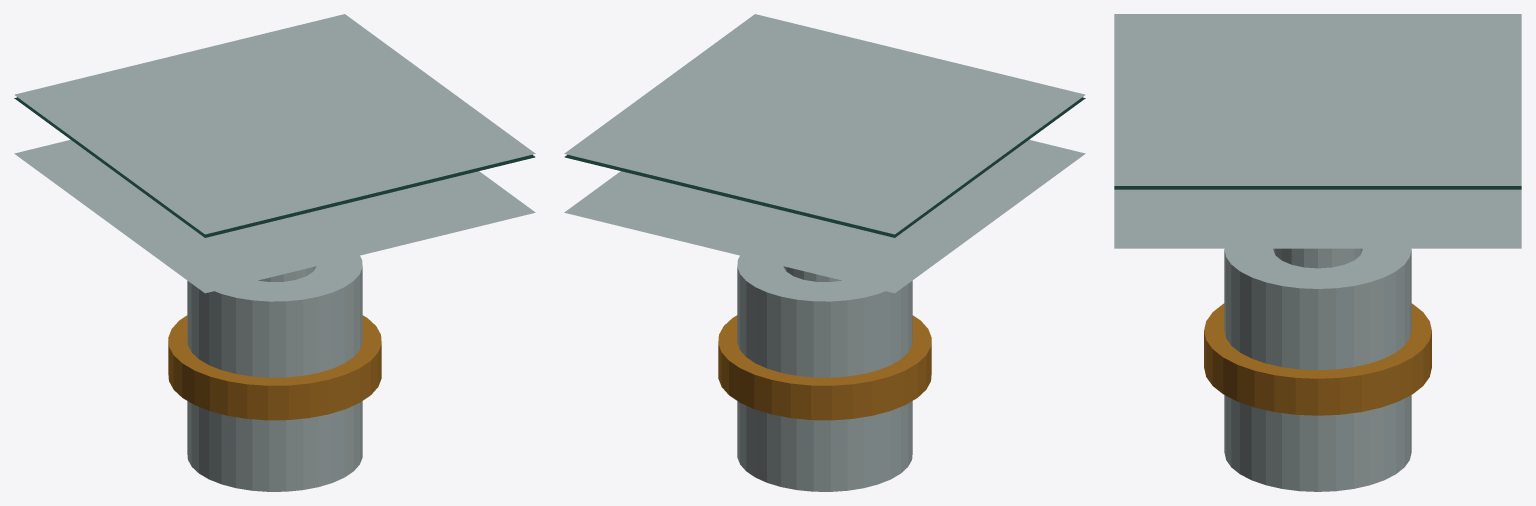
Rendered from cell_31.obj.
3 renders of one model, left to right at view 1: azimuth 30°, elevation 25°; view 2: azimuth 150°, elevation 25°; view 3: azimuth 270°, elevation 25°, orthographic. The views are drawn at different scales.
Size of the model in its own units: 1 by 0.955 by 1.
